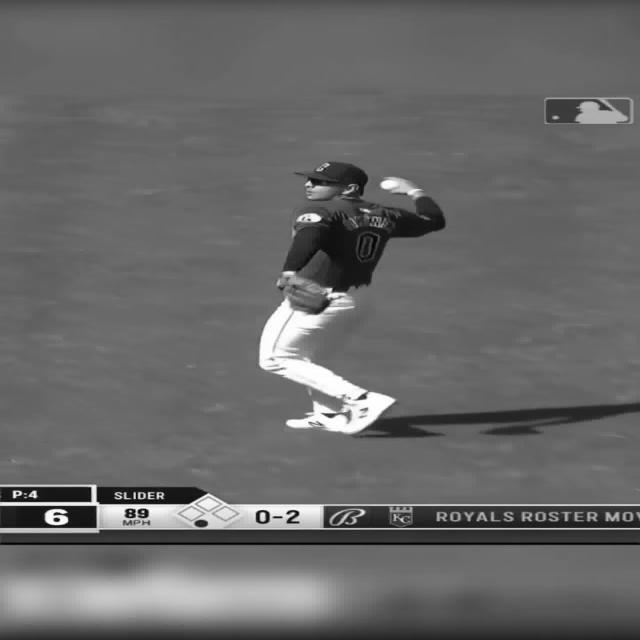baseball: (379, 179, 399, 190)
baseball_glove: (276, 274, 330, 314)
shoe: (338, 390, 397, 434), (284, 411, 348, 431)
